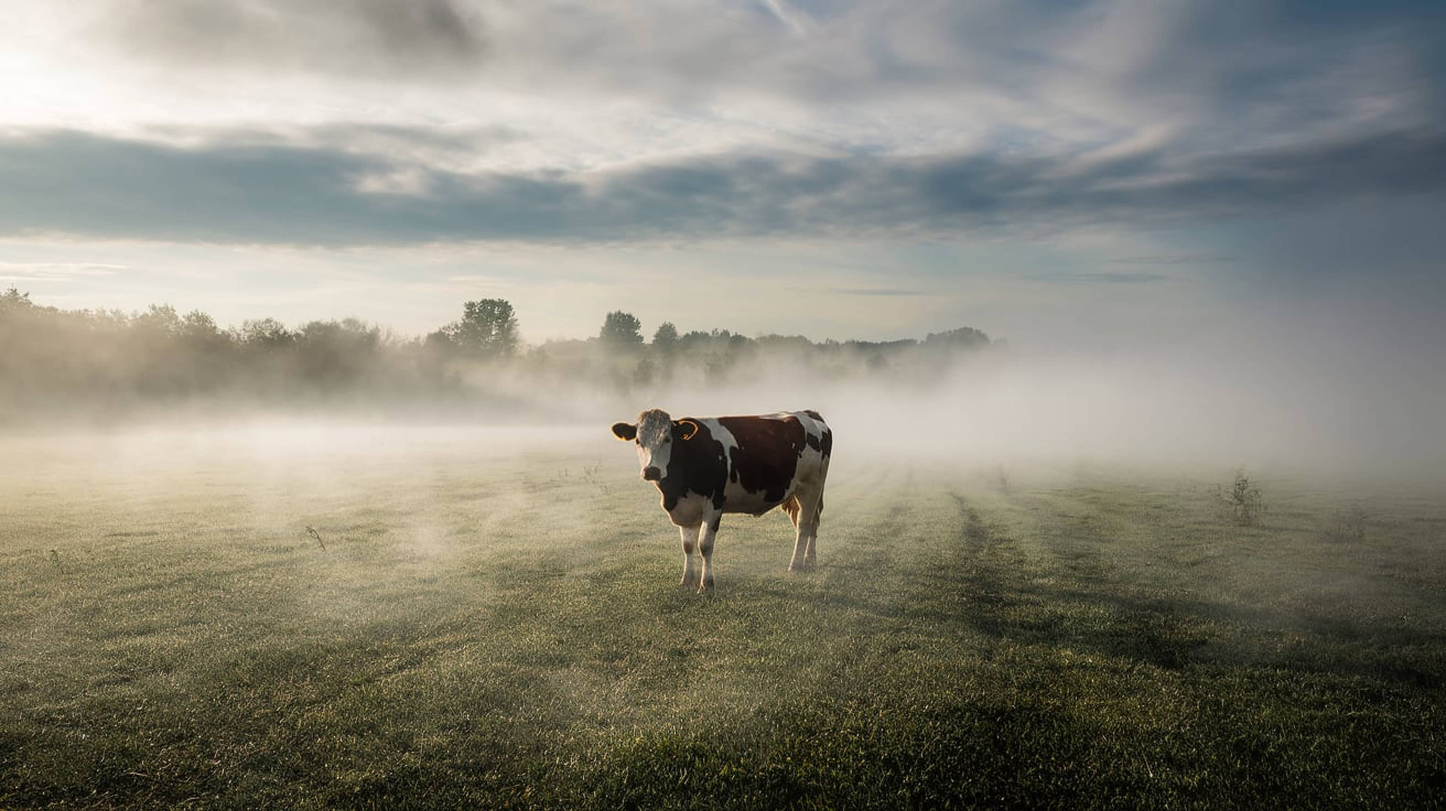bovino: (604, 407, 842, 592)
